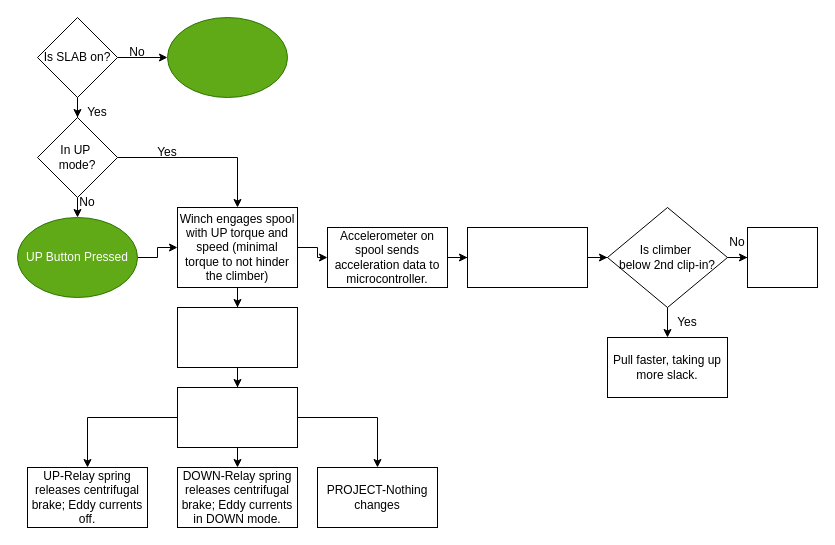
Image size: 835x545. Some labels were removed from this diagram. Here are the shapes that lost their labels. From the top down, the centre of each, then its label:
At point (227, 57): "START Button Pressed".
At point (527, 257): "Microcontroller performs ADC and runs code logic.".
At point (782, 257): "Pull at normal speed".
At point (237, 337): "Centrifugal brake applied, stopping climber.".
At point (237, 417): "Climber consults the SLAB REMOTE and presses:".
